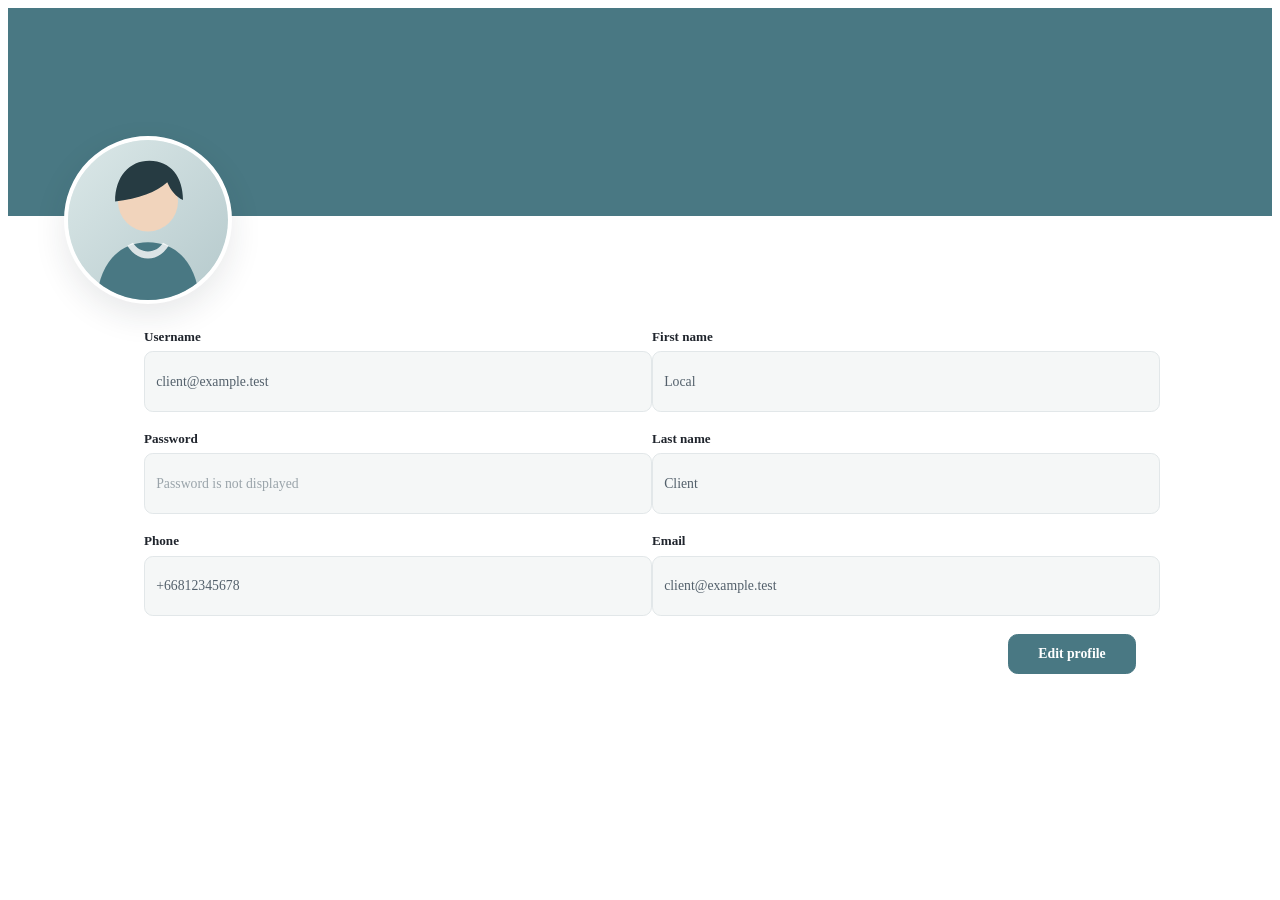
Test: user profile view › updates the BGStore-owned phone number in edit mode
The image size is (1280, 900).
Click the button "Edit profile" at (1072, 654), box [1008,634,1136,674]
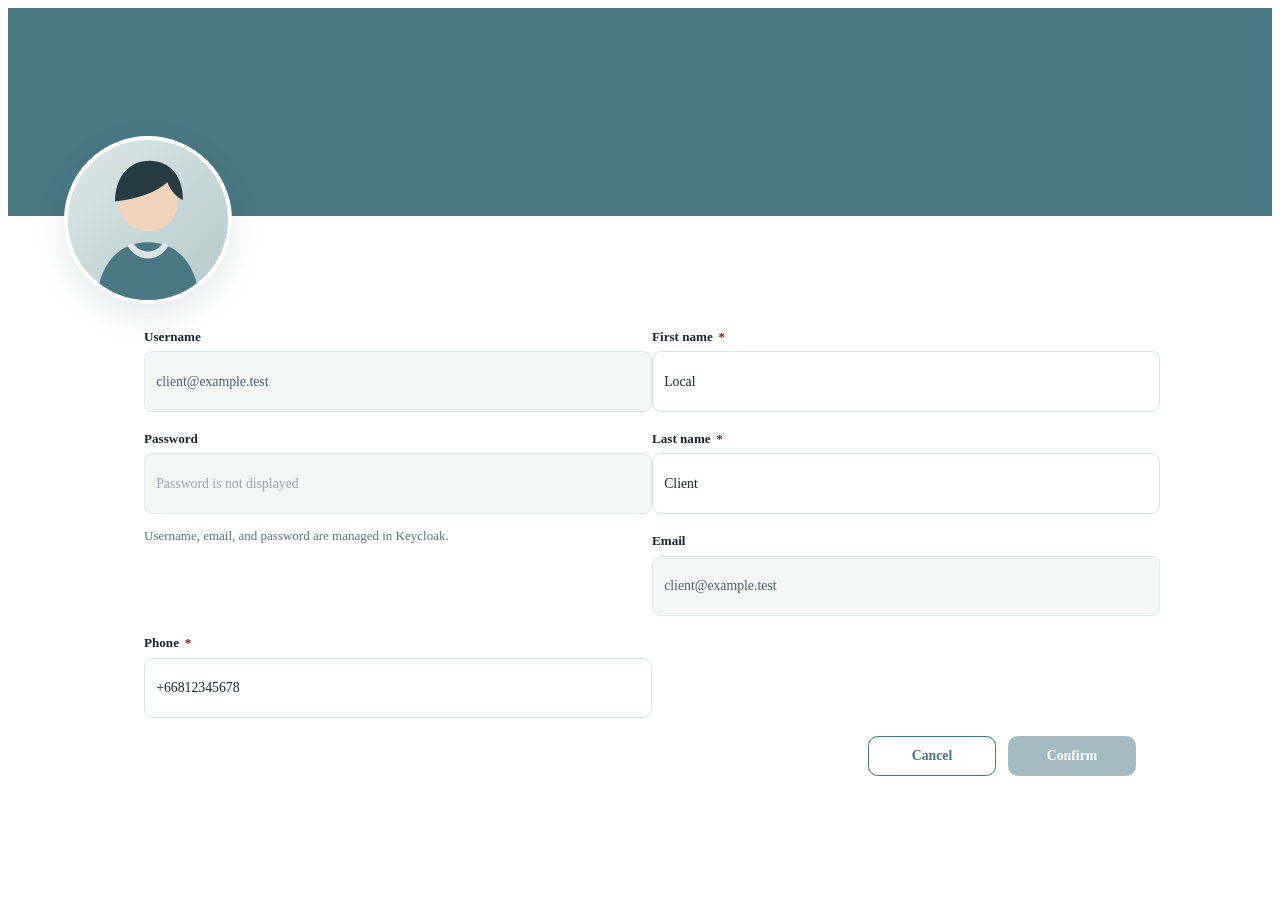
Result: the field labelled "Phone *" does not have attribute readonly
Result: the field labelled "First name *" does not have attribute readonly at [652,351,1160,412]
Result: the field labelled "Last name *" does not have attribute readonly at [652,453,1160,514]
Replace the text in the field labelled "Phone *" with "098 765 4321" at (398, 688), box [144,658,652,718]
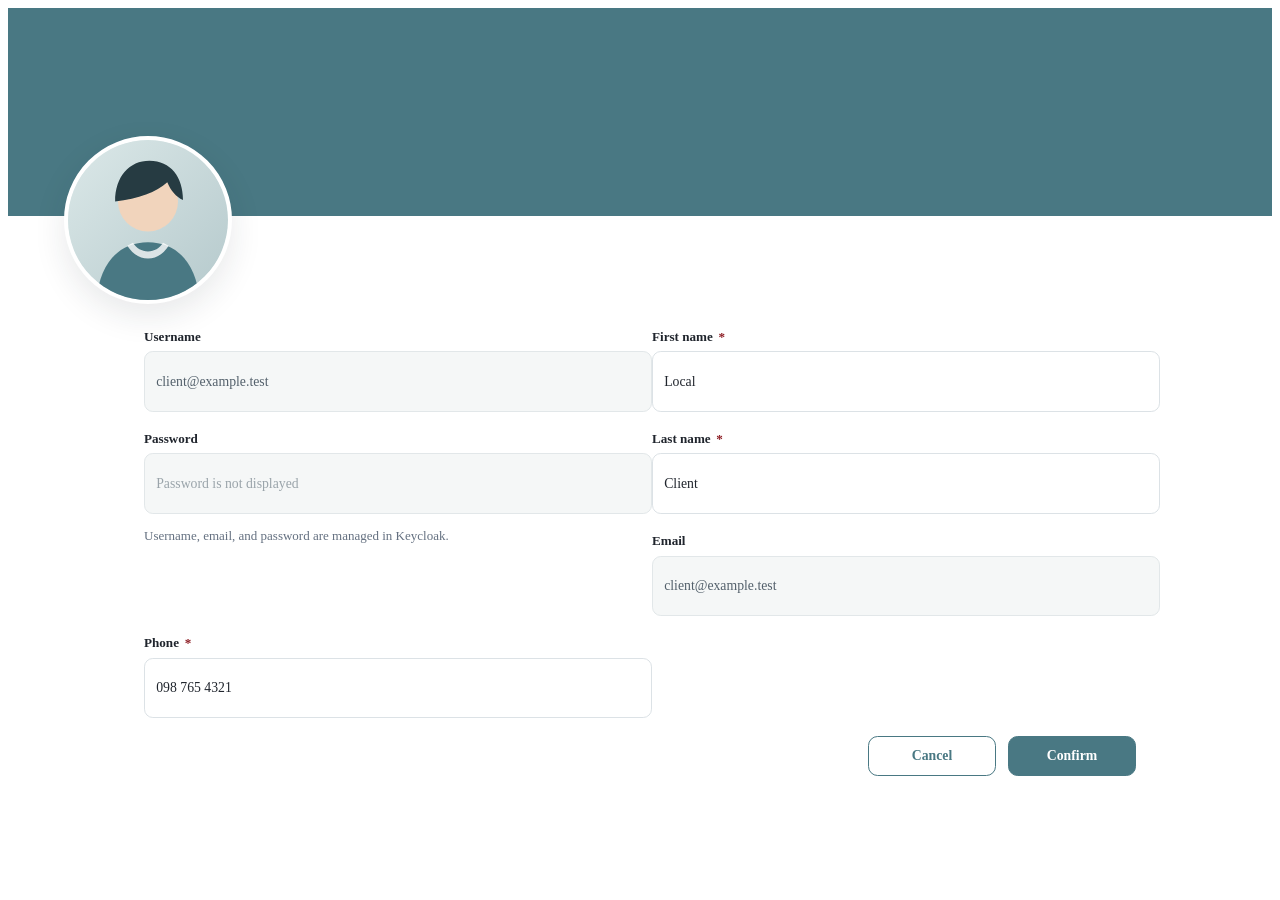
Submit the form, box [144,216,1136,824]
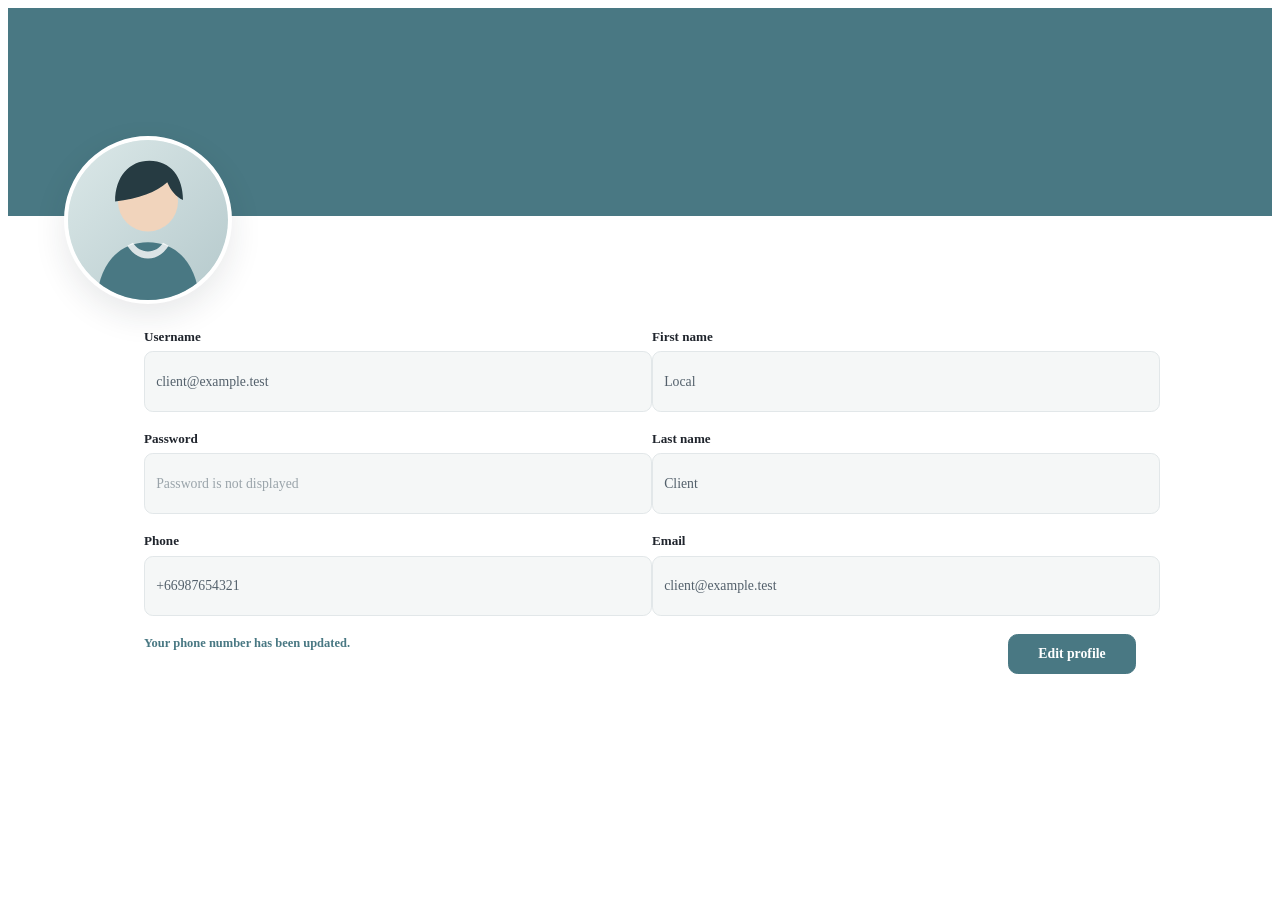
Result: the text "Your phone number has been updated." is shown at [144,636,350,650]
